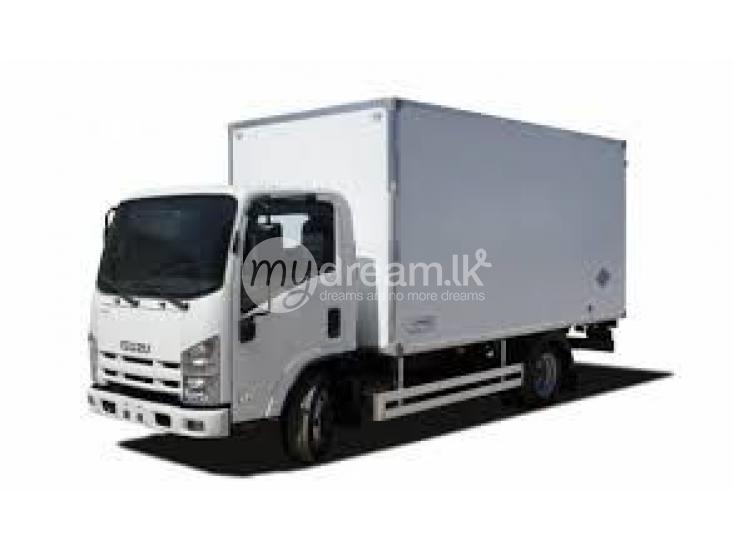truck: (87, 94, 627, 465)
